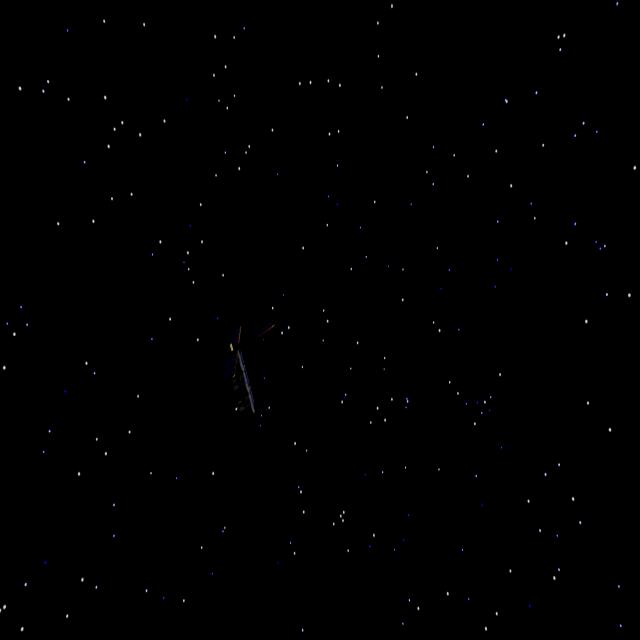satellite: (214, 312, 274, 425)
